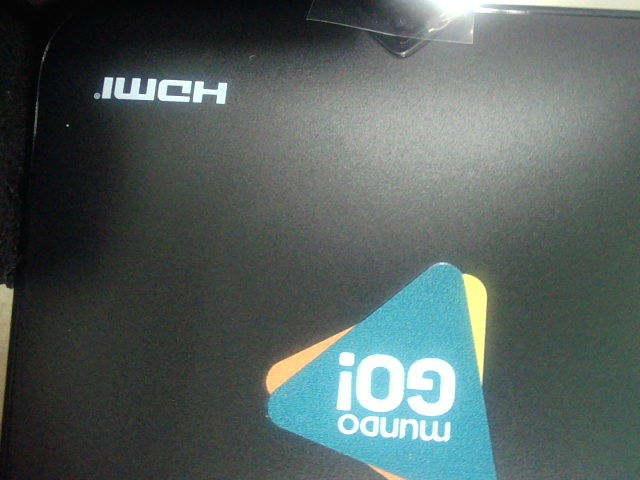AP_IPGMundoGO: (232, 255, 523, 477)
